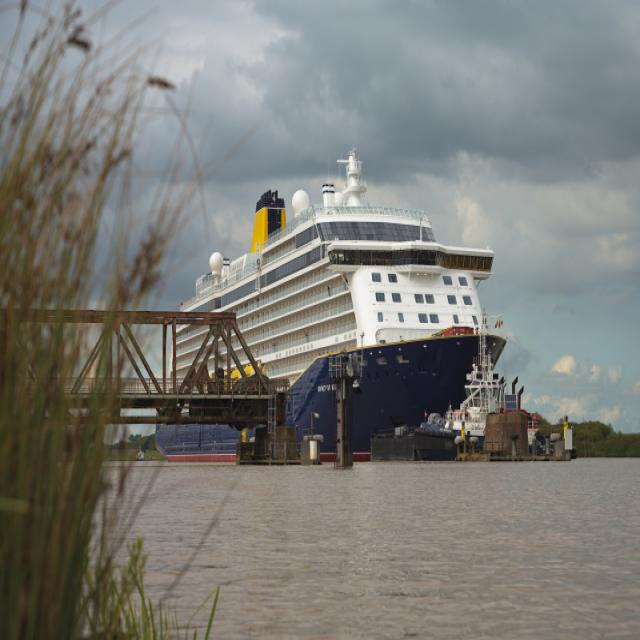cruises: (161, 143, 512, 471)
